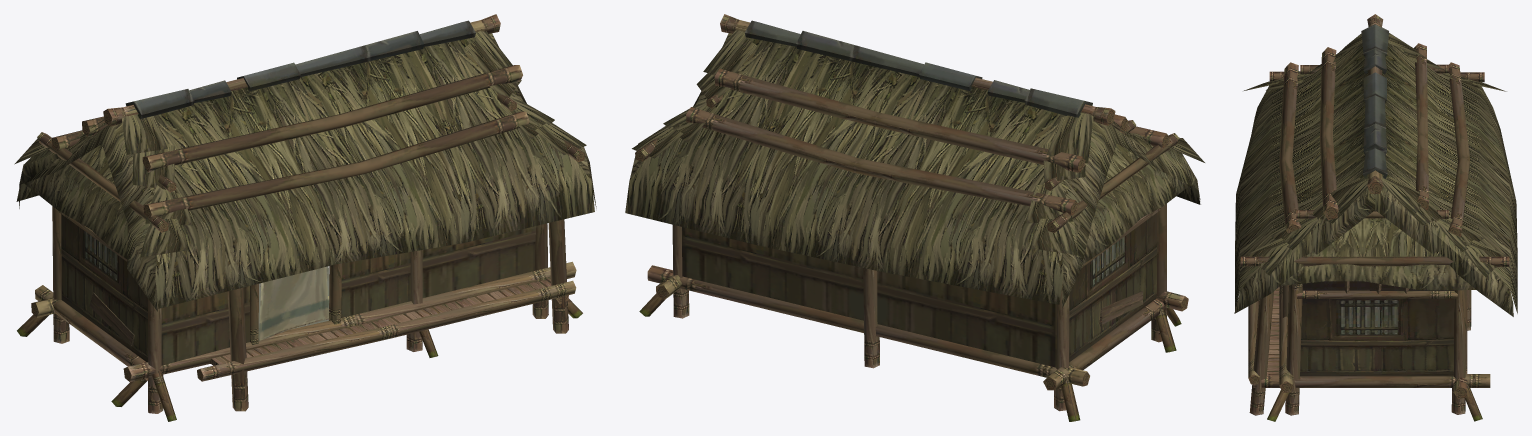
Rendered from oBldThatchedHouse01a.FBX.
3 renders of one model, left to right at view 1: azimuth 30°, elevation 25°; view 2: azimuth 150°, elevation 25°; view 3: azimuth 270°, elevation 25°, orthographic. The views are drawn at different scales.
Visible parts, largest first — view 1: oBldThatchedHouse01a; view 2: oBldThatchedHouse01a; view 3: oBldThatchedHouse01a.
Part boxes in pixels (x1=…): oBldThatchedHouse01a: x1=14, y1=14, x2=596, y2=421; oBldThatchedHouse01a: x1=625, y1=14, x2=1204, y2=421; oBldThatchedHouse01a: x1=1234, y1=14, x2=1517, y2=421.
Bounding box in the file's own units: 58.22 × 32.79 × 35.72.
Materials: 1 (1 with a texture image).
